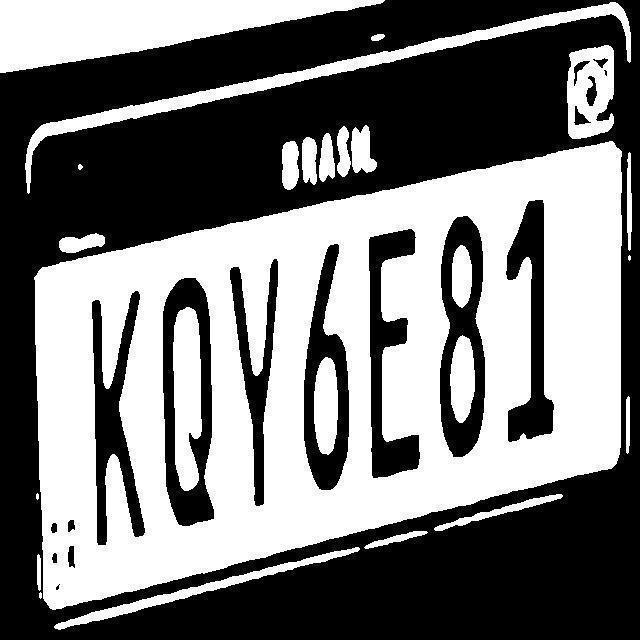1: (504, 188, 570, 454)
6: (298, 233, 360, 512)
8: (432, 201, 498, 478)
e: (352, 214, 432, 502)
k: (76, 272, 153, 553)
q: (158, 248, 222, 529)
y: (226, 238, 293, 518)
